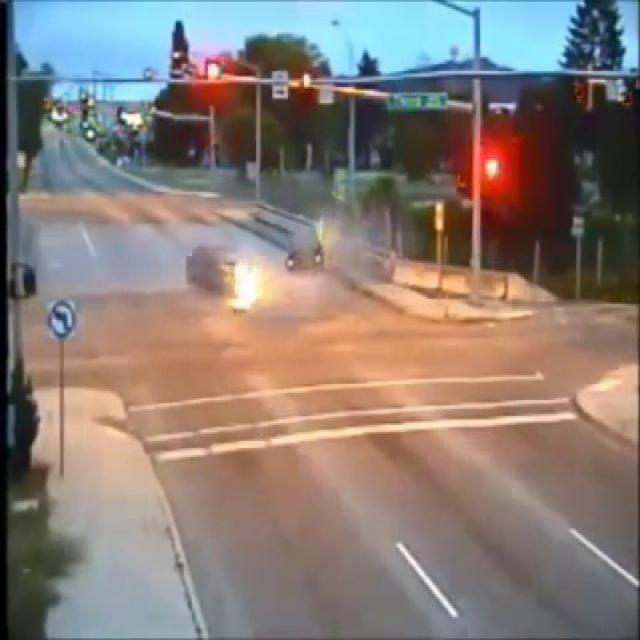accident: (183, 224, 329, 313)
